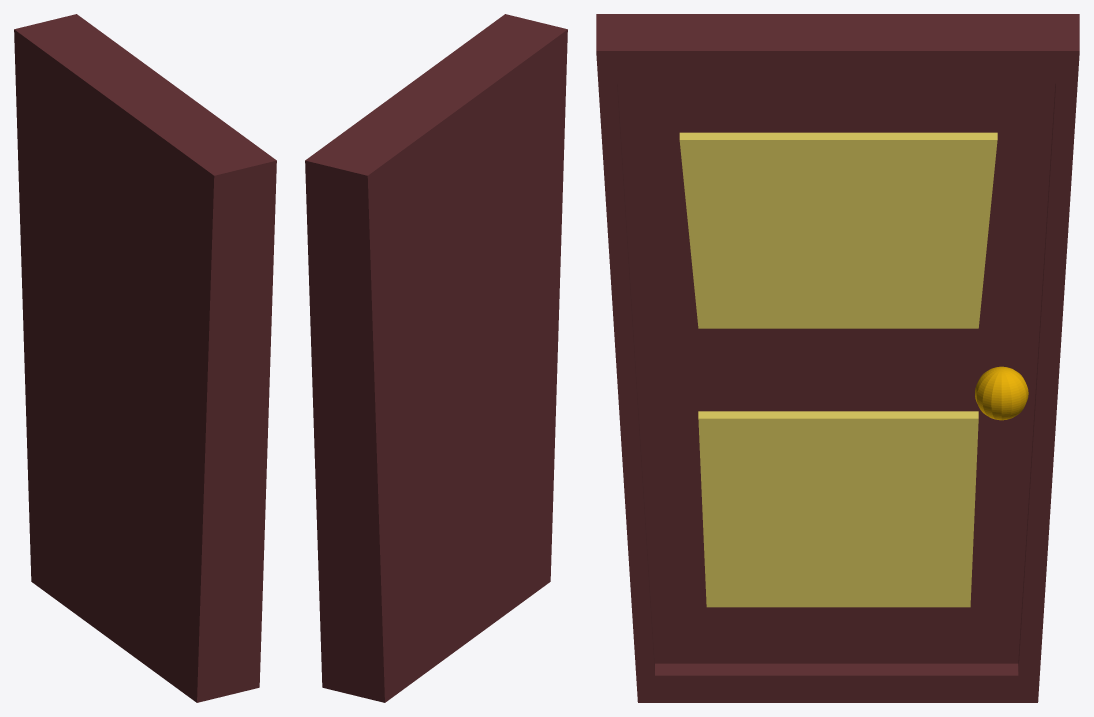
File: Door.fbx
The picture shows the model from 3 angles, left to right: view 1: azimuth 30°, elevation 25°; view 2: azimuth 150°, elevation 25°; view 3: azimuth 270°, elevation 25°; orthographic projection. The views are drawn at different scales.
Visible parts, largest first — view 1: Door; view 2: Door; view 3: Door.
Part boxes in pixels (x1,y1,x2,y2): Door: (14,14,276,702); Door: (305,14,567,702); Door: (596,14,1079,702).
Size of the model in its own units: 128 by 830 by 558.
